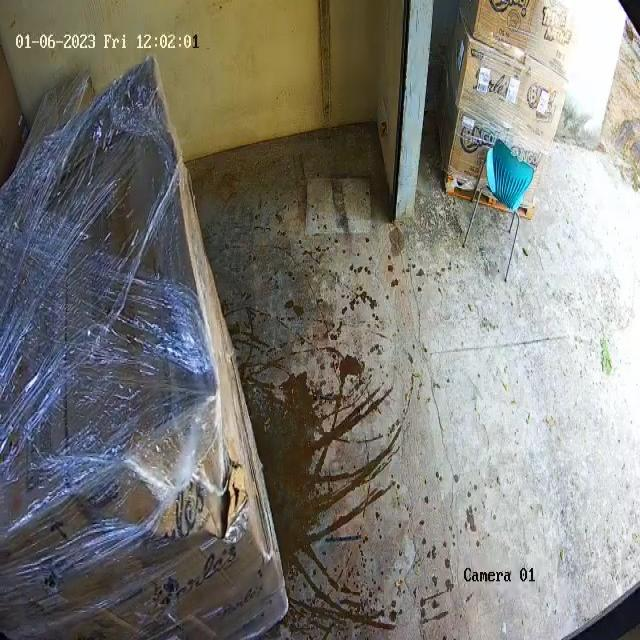leakage: (205, 437, 257, 574)
